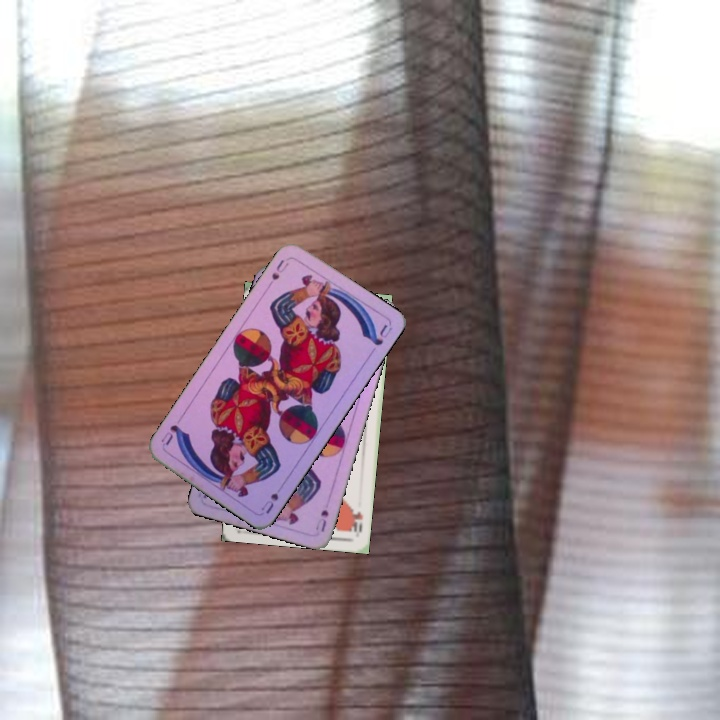HO: (346, 505, 365, 535)
SU: (257, 479, 287, 516), (263, 255, 292, 290), (311, 505, 331, 534)
